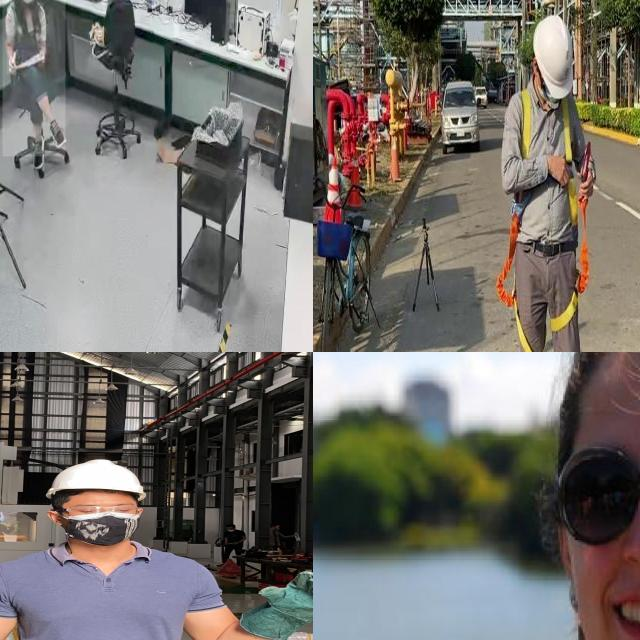Harness: (551, 198, 589, 334), (497, 215, 533, 352)
face_mask: (55, 500, 146, 544), (17, 0, 36, 9)
face_nomask: (564, 444, 640, 640)
glasses: (560, 430, 640, 542), (45, 504, 143, 520)
hand_glove: (249, 566, 313, 624)
hand_noglove: (7, 50, 17, 76), (38, 43, 46, 64)
head_helmet: (38, 454, 154, 500)
person: (0, 451, 313, 640), (469, 352, 640, 640), (2, 0, 65, 157)
shoes: (46, 111, 68, 152), (30, 132, 50, 175)
